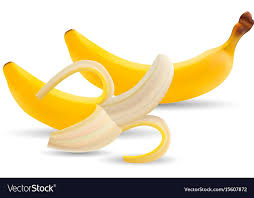banana: (2, 54, 184, 154), (187, 12, 246, 115), (50, 23, 143, 81)
